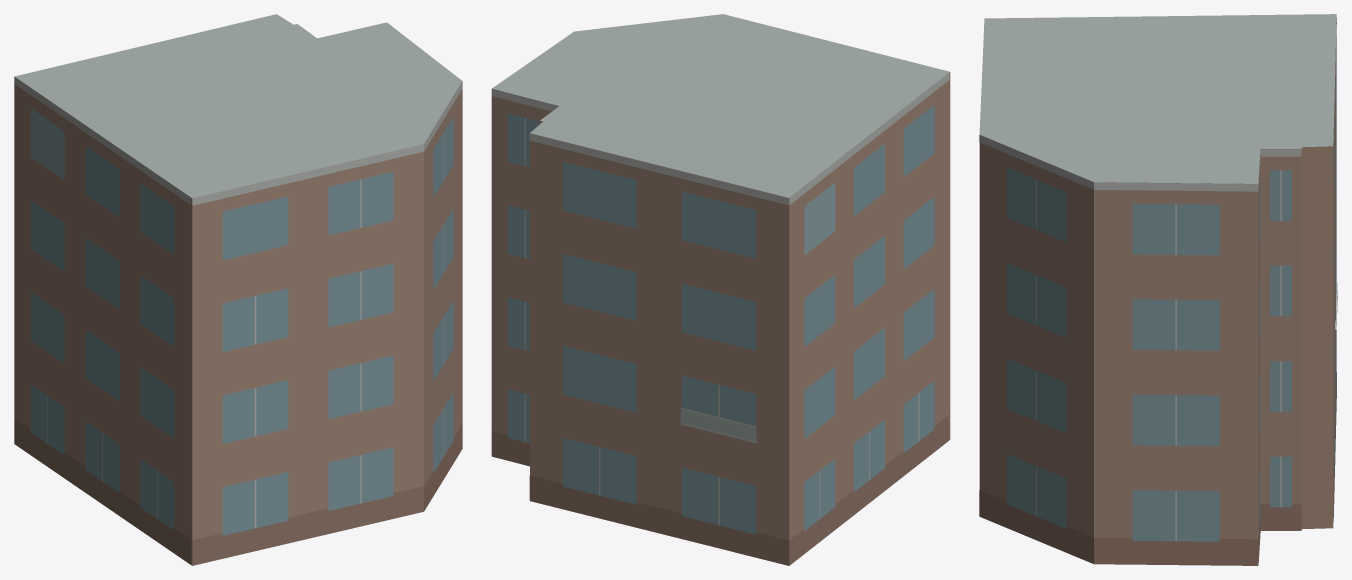
File: survey-upis-32738498.glb
3 renders of one model, left to right at view 1: azimuth 30°, elevation 25°; view 2: azimuth 150°, elevation 25°; view 3: azimuth 270°, elevation 25°, orthographic. The views are drawn at different scales.
Visible parts, largest first — view 1: survey-upis-32738498.tmp; view 2: survey-upis-32738498.tmp; view 3: survey-upis-32738498.tmp.
Part boxes in pixels (x1,y1,x2,y2): survey-upis-32738498.tmp: [14, 14, 462, 565]; survey-upis-32738498.tmp: [491, 14, 950, 565]; survey-upis-32738498.tmp: [979, 14, 1337, 565].
Size of the model in its own units: 11.56 by 12.11 by 10.3.
